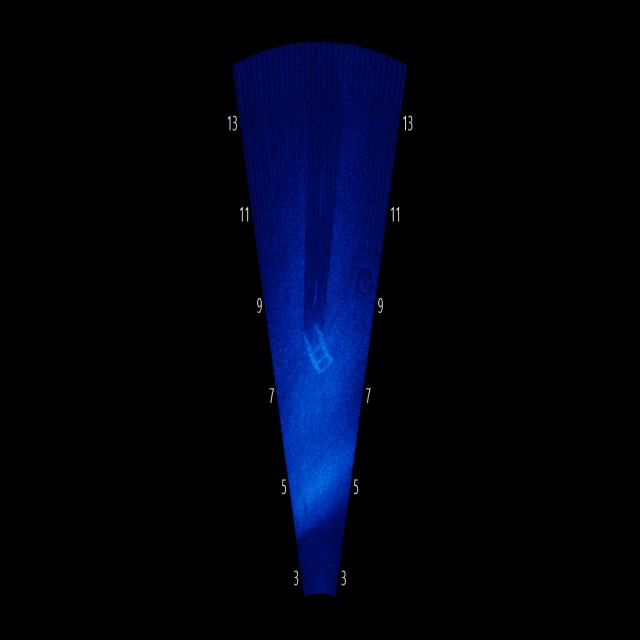square: (296, 312, 342, 384)
